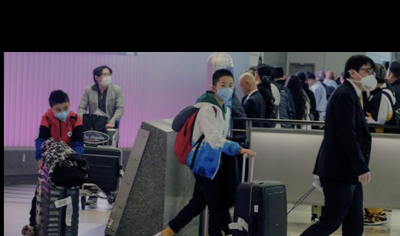with_mask: (357, 67, 378, 93), (216, 81, 234, 102), (51, 104, 70, 122), (98, 72, 112, 88)
